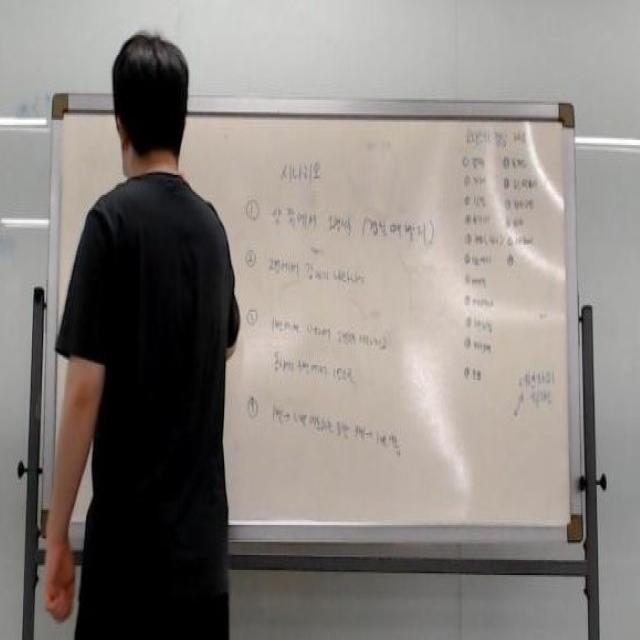Instructor: (61, 27, 236, 606)
White-board: (48, 103, 578, 540)
